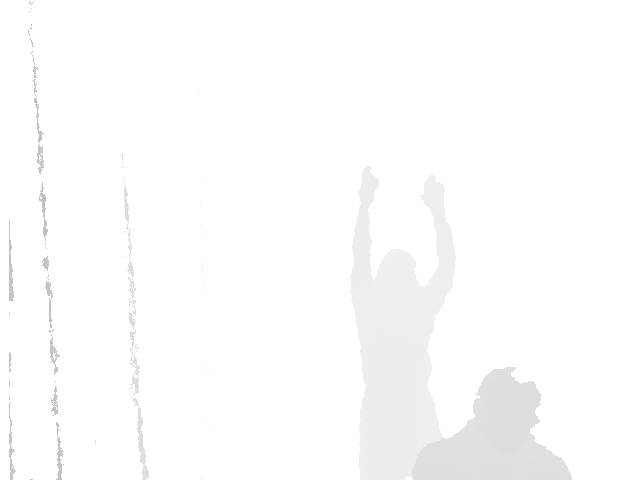hand: (353, 166, 385, 203), (419, 172, 448, 210)
head: (471, 368, 543, 453), (374, 248, 420, 297)
person: (350, 166, 457, 479), (408, 368, 572, 480)
